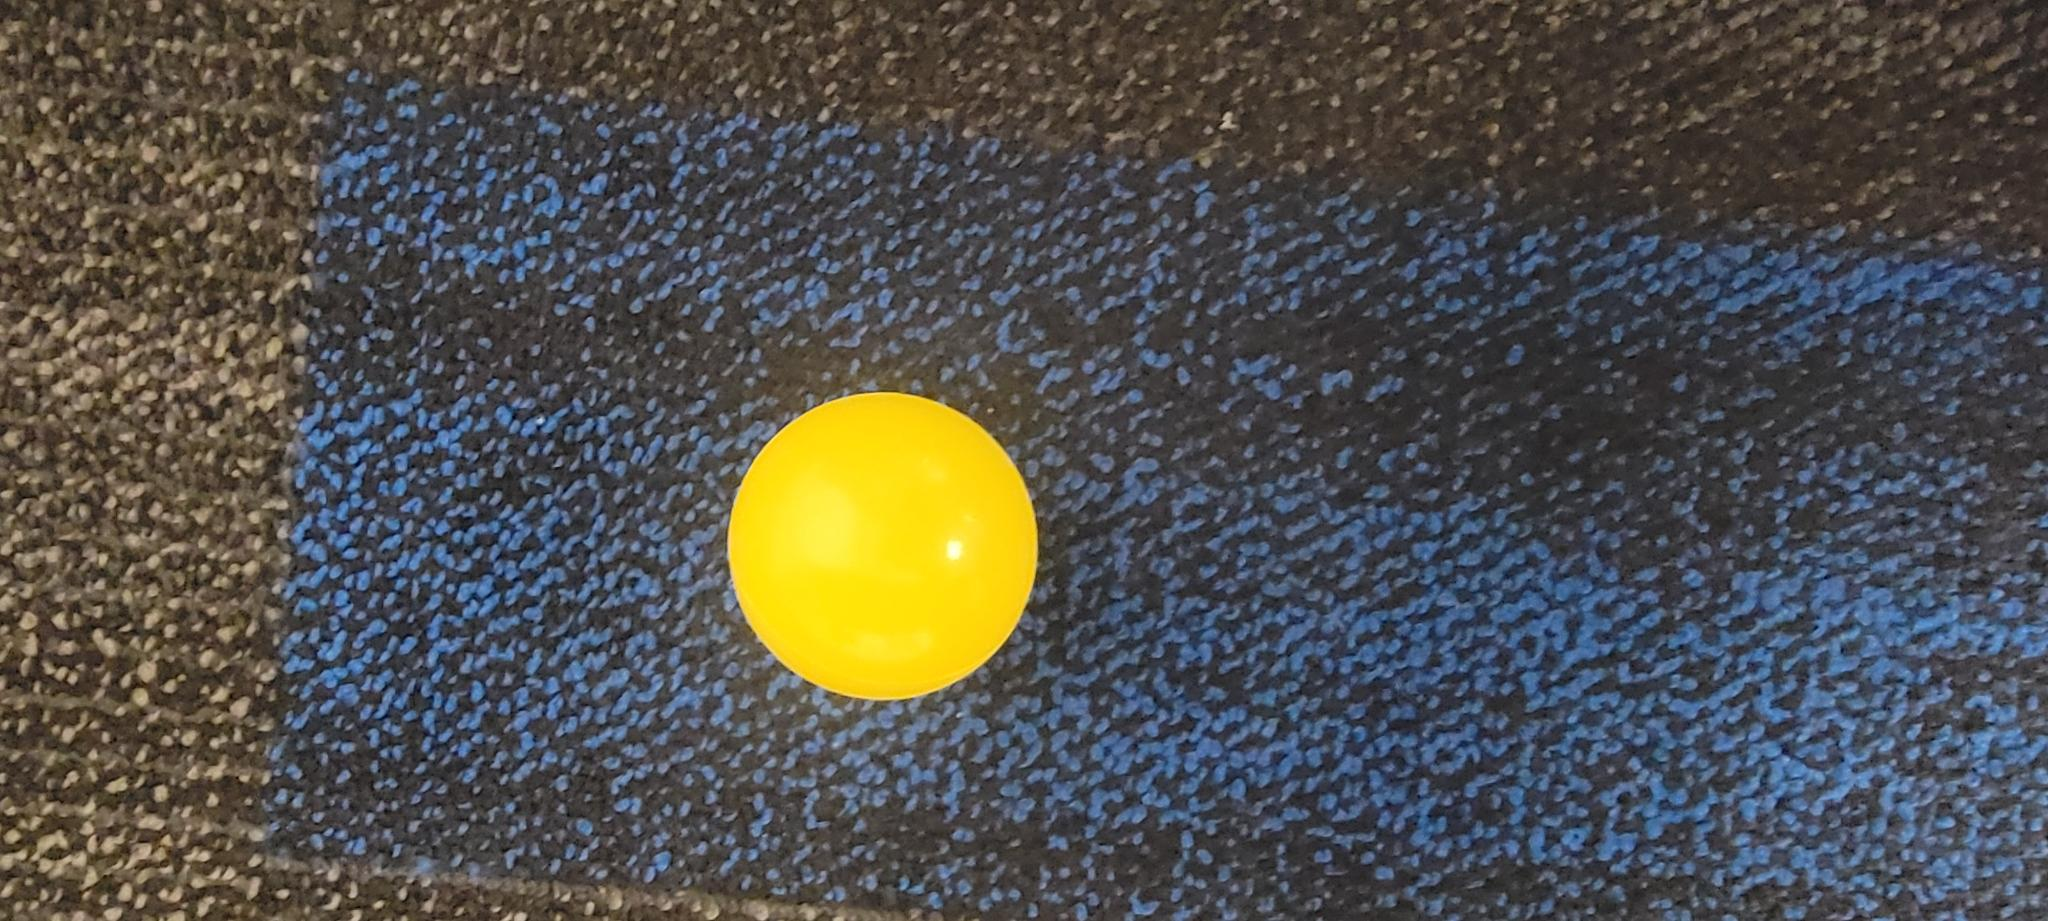Yellow-Ball: (219, 720, 528, 921)
